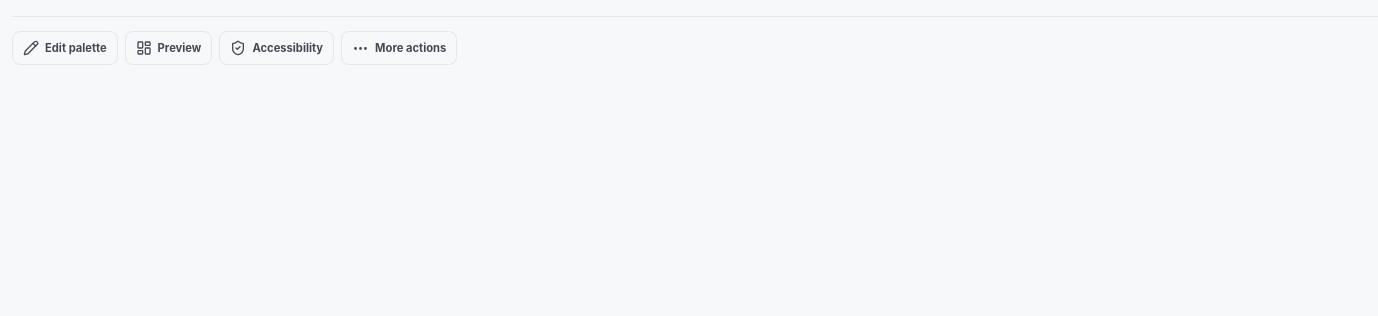
it: PaletteCardActions › opens an accessible menu and runs secondary actions without bubbling
What coordinates should you click on to do the following:
click the button with aria-label "More actions for Ocean"
I would click on:
 (399, 48)
Its box is [341,31,457,65].
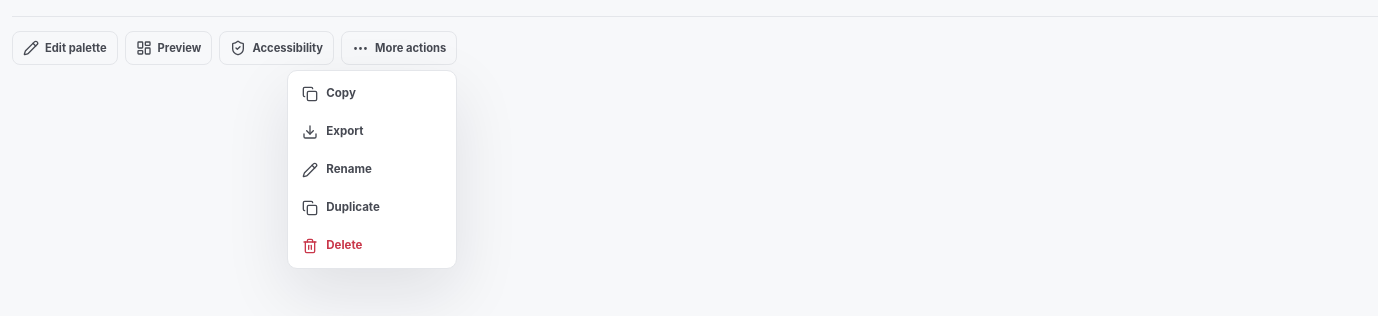
expect the menu named "Actions for Ocean" is shown: met, box [287,70,457,269]
What coordinates should you click on to do the following:
click the menu item "Rename"
I would click on:
 (372, 170)
Its box is [293,152,451,187].
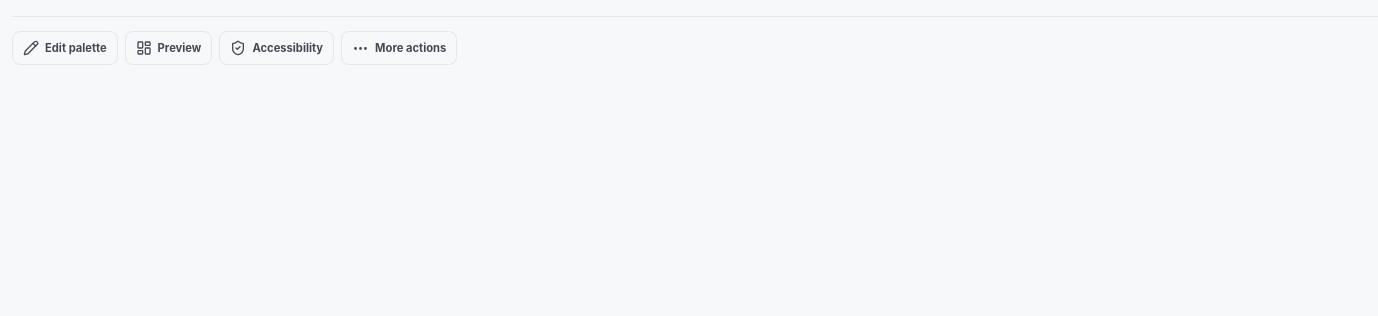
expect the menu is gone: met
